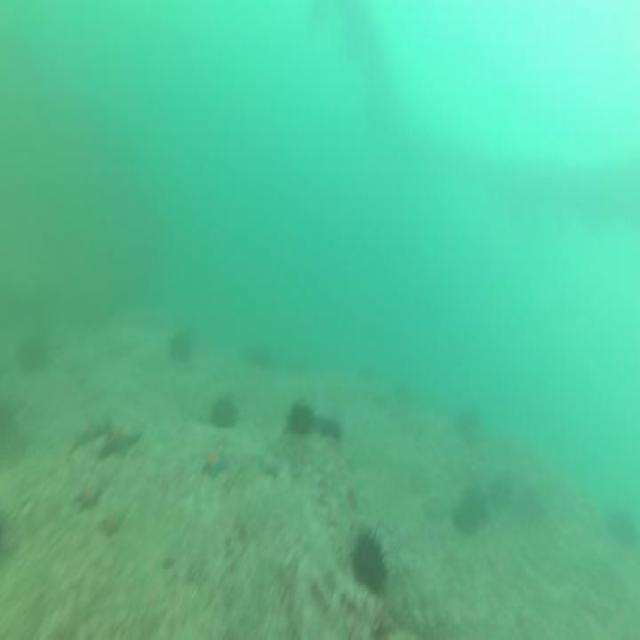echinus: (348, 521, 391, 599), (452, 477, 489, 542), (14, 334, 51, 379), (283, 393, 317, 441), (0, 389, 22, 463), (312, 409, 345, 449), (208, 392, 240, 433), (452, 398, 480, 442), (166, 326, 195, 366)
starfish: (97, 420, 143, 464), (96, 499, 130, 544), (199, 438, 233, 482), (74, 477, 108, 514)
